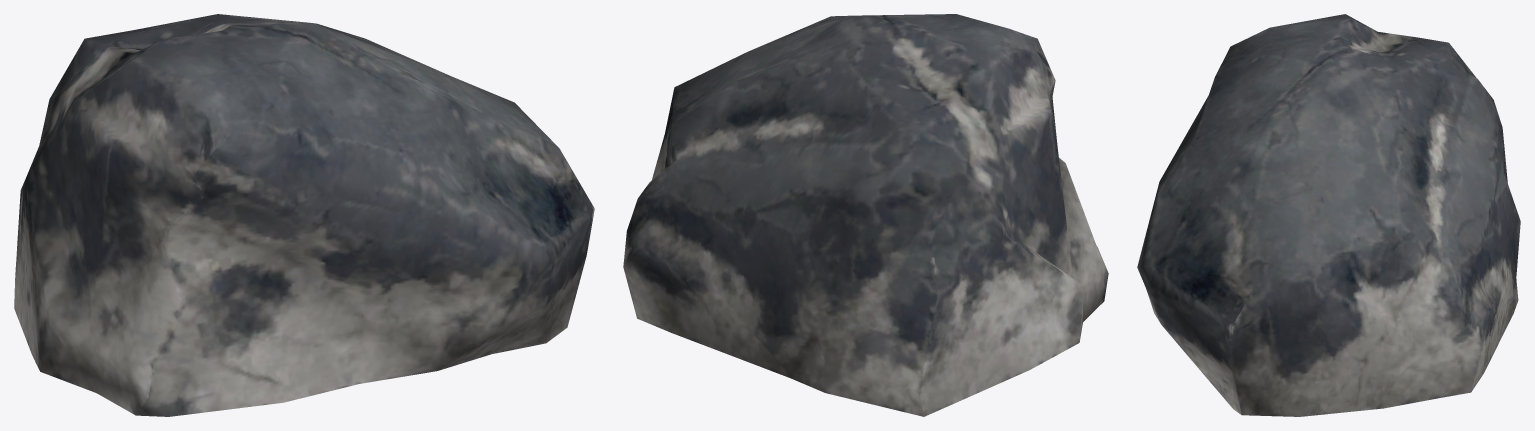
File: SM_Com_Roc_40AS.fbx
The picture shows the model from 3 angles, left to right: view 1: azimuth 30°, elevation 25°; view 2: azimuth 150°, elevation 25°; view 3: azimuth 270°, elevation 25°; orthographic projection. The views are drawn at different scales.
Visible parts, largest first — view 1: SM_Com_Roc_40AS.mo; view 2: SM_Com_Roc_40AS.mo; view 3: SM_Com_Roc_40AS.mo.
Part boxes in pixels (x1,y1,x2,y2): SM_Com_Roc_40AS.mo: [14, 14, 594, 416]; SM_Com_Roc_40AS.mo: [623, 14, 1108, 416]; SM_Com_Roc_40AS.mo: [1137, 14, 1520, 416].
Bounding box in the file's own units: 1.36 × 0.88 × 1.14.
